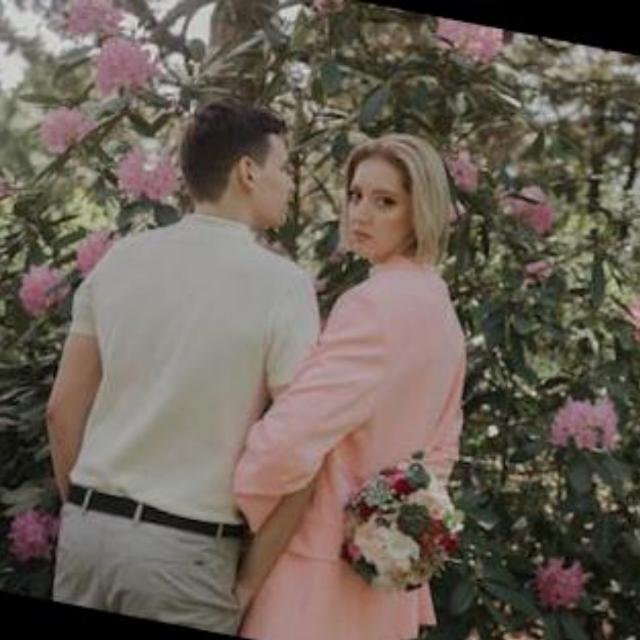Sad: (345, 144, 421, 262)
